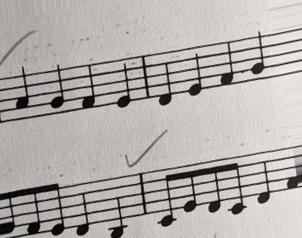note: (9, 63, 35, 120), (75, 60, 100, 117), (153, 51, 176, 110), (46, 62, 70, 118), (113, 54, 135, 112), (215, 38, 238, 93), (253, 150, 275, 207), (183, 44, 205, 98), (73, 181, 94, 237), (247, 29, 269, 82)
